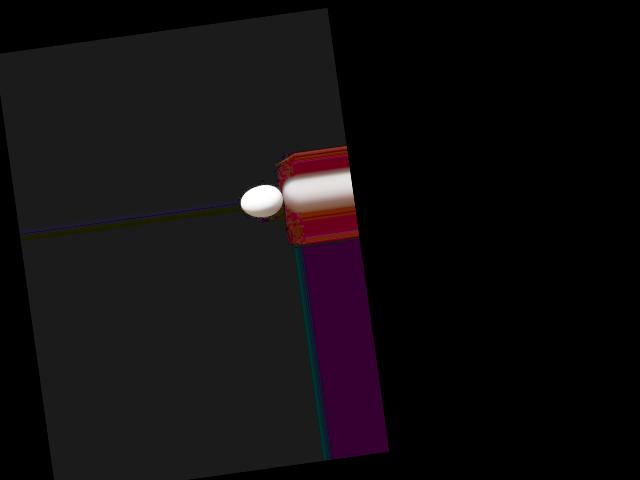egg: (238, 182, 285, 219)
